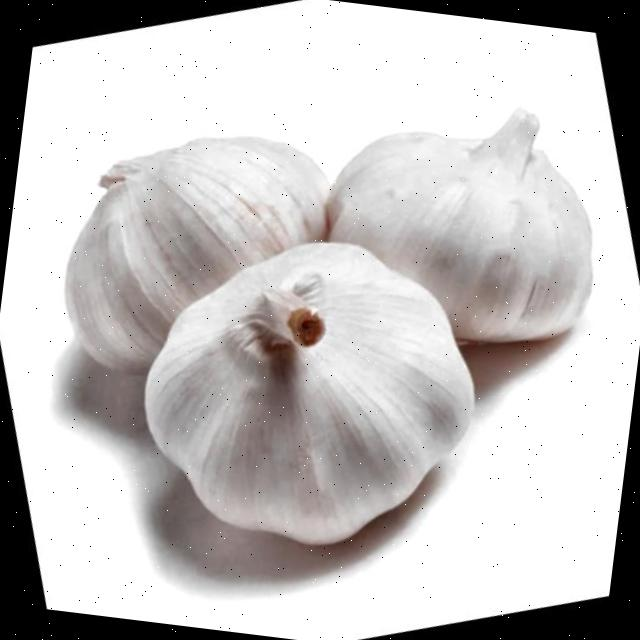garlic: (143, 241, 473, 542), (326, 109, 590, 342), (64, 137, 327, 370)
